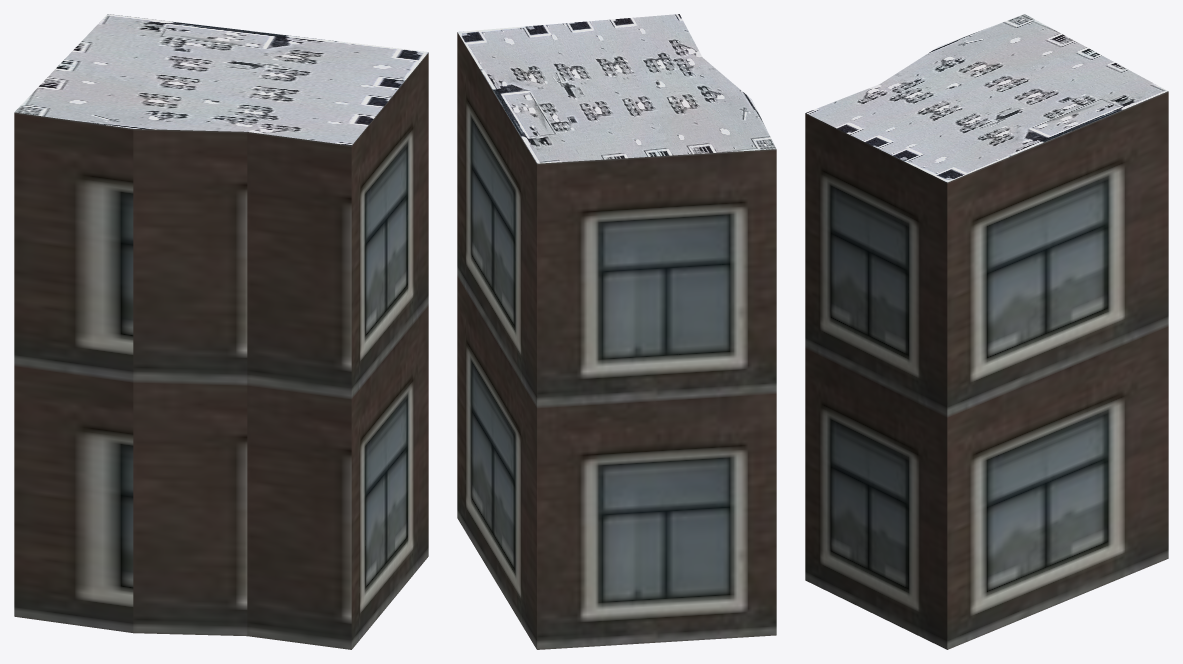
Rendered from ResTex__4531.fbx.
The picture shows the model from 3 angles, left to right: view 1: azimuth 30°, elevation 25°; view 2: azimuth 150°, elevation 25°; view 3: azimuth 270°, elevation 25°; orthographic projection. The views are drawn at different scales.
Visible parts, largest first — view 1: CityEngineMaterial_16_m, CityEngineMaterial_15_m; view 2: CityEngineMaterial_16_m, CityEngineMaterial_15_m; view 3: CityEngineMaterial_16_m, CityEngineMaterial_15_m.
Part boxes in pixels (left/top/right/bottom): CityEngineMaterial_16_m: left=14, top=52, right=428, bottom=649; CityEngineMaterial_15_m: left=14, top=14, right=428, bottom=145; CityEngineMaterial_16_m: left=457, top=32, right=776, bottom=649; CityEngineMaterial_15_m: left=457, top=14, right=776, bottom=163; CityEngineMaterial_16_m: left=805, top=91, right=1168, bottom=649; CityEngineMaterial_15_m: left=805, top=14, right=1168, bottom=182.
Bounding box in the file's own units: 4.64 × 6 × 4.23.
2 materials, 2 textured.
